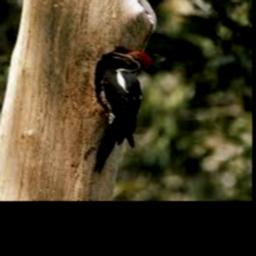Woodpecker: (93, 51, 152, 173)
